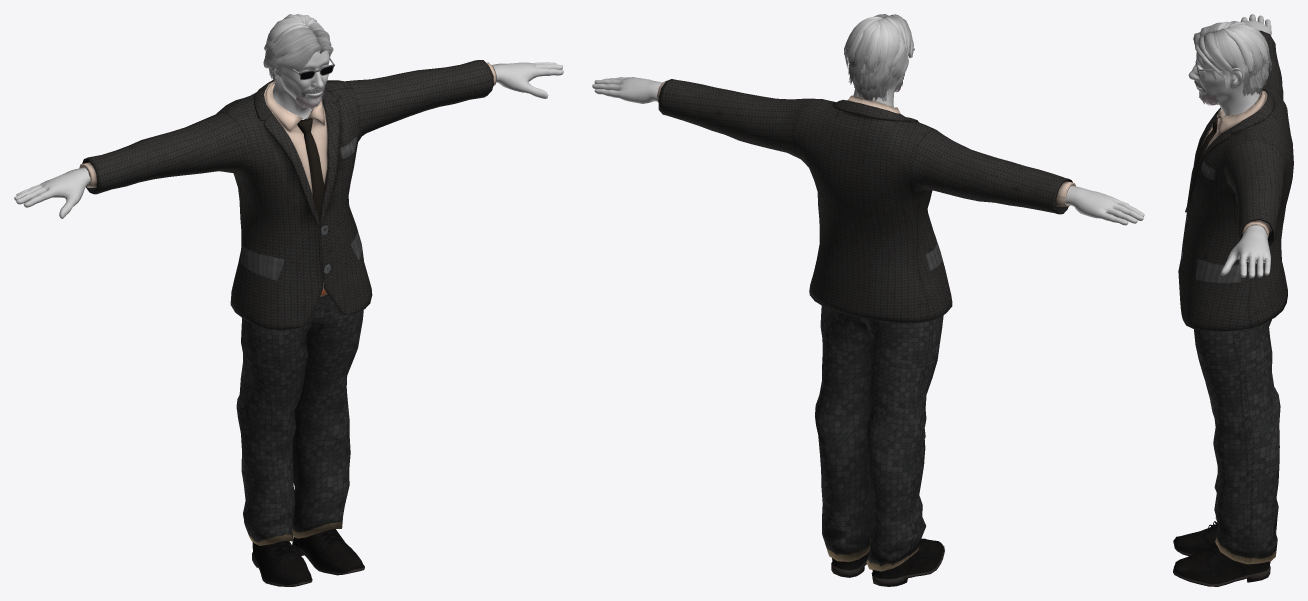
Rendered from hired hitman.obj.
3 renders of one model, left to right at view 1: azimuth 30°, elevation 25°; view 2: azimuth 150°, elevation 25°; view 3: azimuth 270°, elevation 25°, orthographic.
Parts seen in each view (by area): view 1: Tops, Bottoms, Body, Shoes, Hair; view 2: Tops, Bottoms, Hair, Body, Shoes; view 3: Tops, Bottoms, Body, Hair, Shoes, Beards.
Boxes of the visible parts, x1=… form: Tops: x1=79, y1=60, x2=496, y2=330; Bottoms: x1=236, y1=284, x2=363, y2=545; Body: x1=14, y1=51, x2=563, y2=284; Shoes: x1=252, y1=529, x2=364, y2=586; Hair: x1=263, y1=14, x2=333, y2=84; Tops: x1=657, y1=79, x2=1075, y2=322; Bottoms: x1=815, y1=306, x2=943, y2=571; Hair: x1=844, y1=14, x2=913, y2=101; Body: x1=592, y1=32, x2=1144, y2=225; Shoes: x1=831, y1=528, x2=944, y2=586; Tops: x1=1178, y1=30, x2=1293, y2=331; Bottoms: x1=1194, y1=319, x2=1280, y2=564; Body: x1=1188, y1=14, x2=1271, y2=278; Hair: x1=1193, y1=21, x2=1271, y2=96; Shoes: x1=1173, y1=521, x2=1270, y2=586; Beards: x1=1199, y1=91, x2=1218, y2=105.
Bounding box in the file's own units: 193 × 184 × 37.35.
